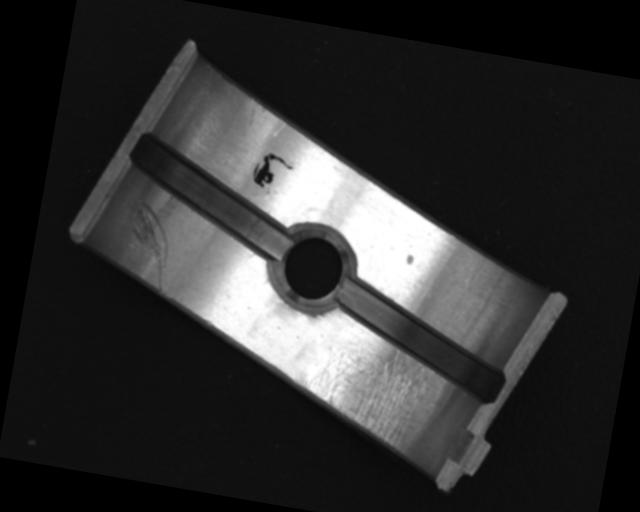blot: (250, 149, 297, 193)
bruise: (404, 252, 416, 266)
gap: (114, 129, 304, 260), (326, 276, 517, 406)
hole: (269, 221, 358, 311)
nick: (117, 196, 179, 294)
scratch: (292, 334, 453, 456)
